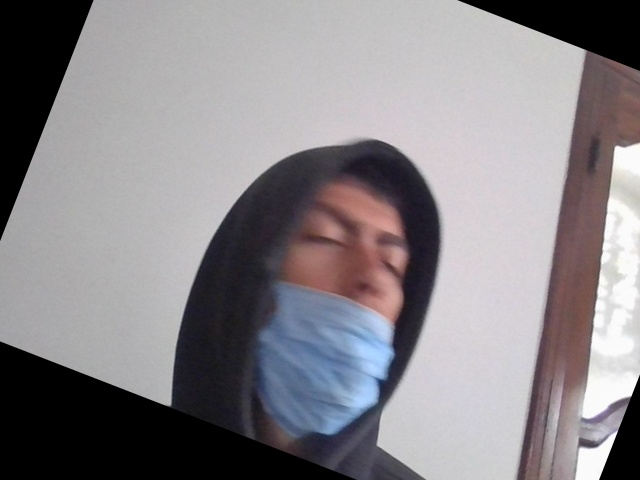mask_weared_incorrect: (246, 171, 416, 439)
